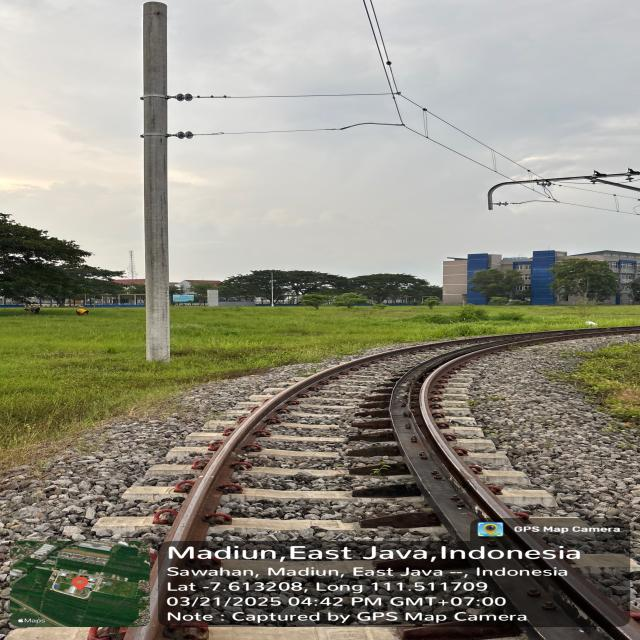rail-detection: (385, 330, 640, 640), (151, 351, 400, 626), (235, 346, 423, 440)
